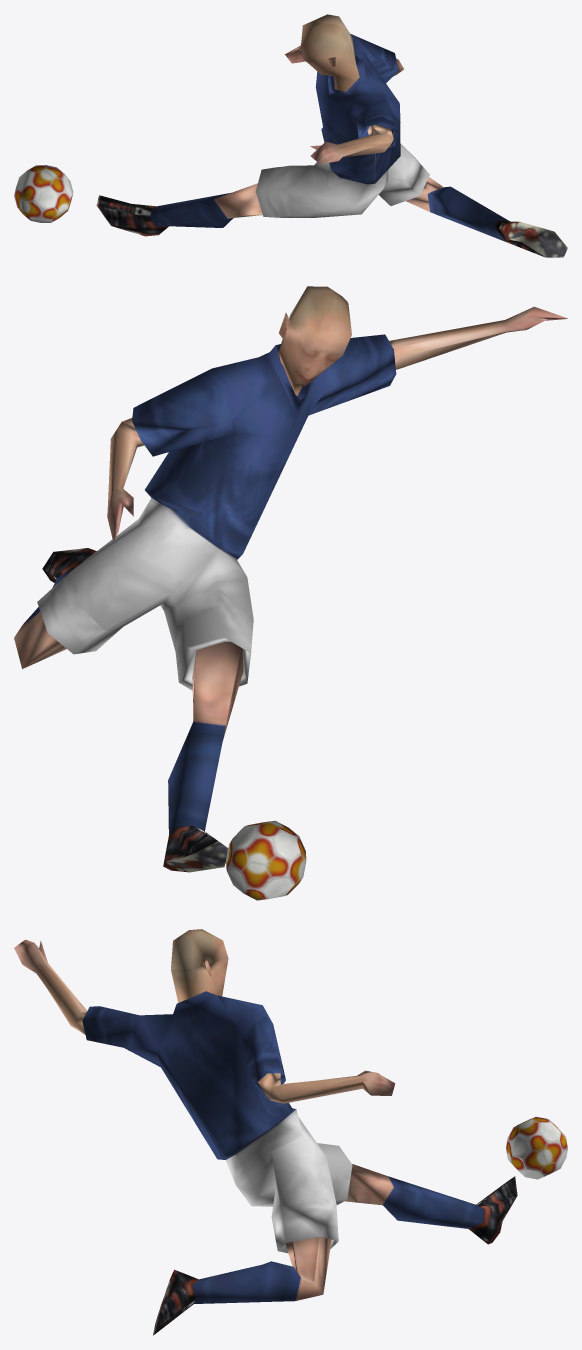
Rendered from view.ico.obj.
3 views of the same model, one above another, from view 1: azimuth 30°, elevation 25°; view 2: azimuth 150°, elevation 25°; view 3: azimuth 270°, elevation 25° (orthographic). The views are drawn at different scales.
Bounding box in the file's own units: 3.99 × 3.23 × 4.93.
1 material, 1 textured.
